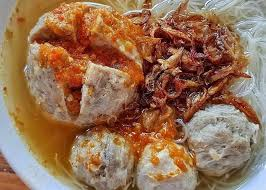bakso: (18, 7, 258, 187)
